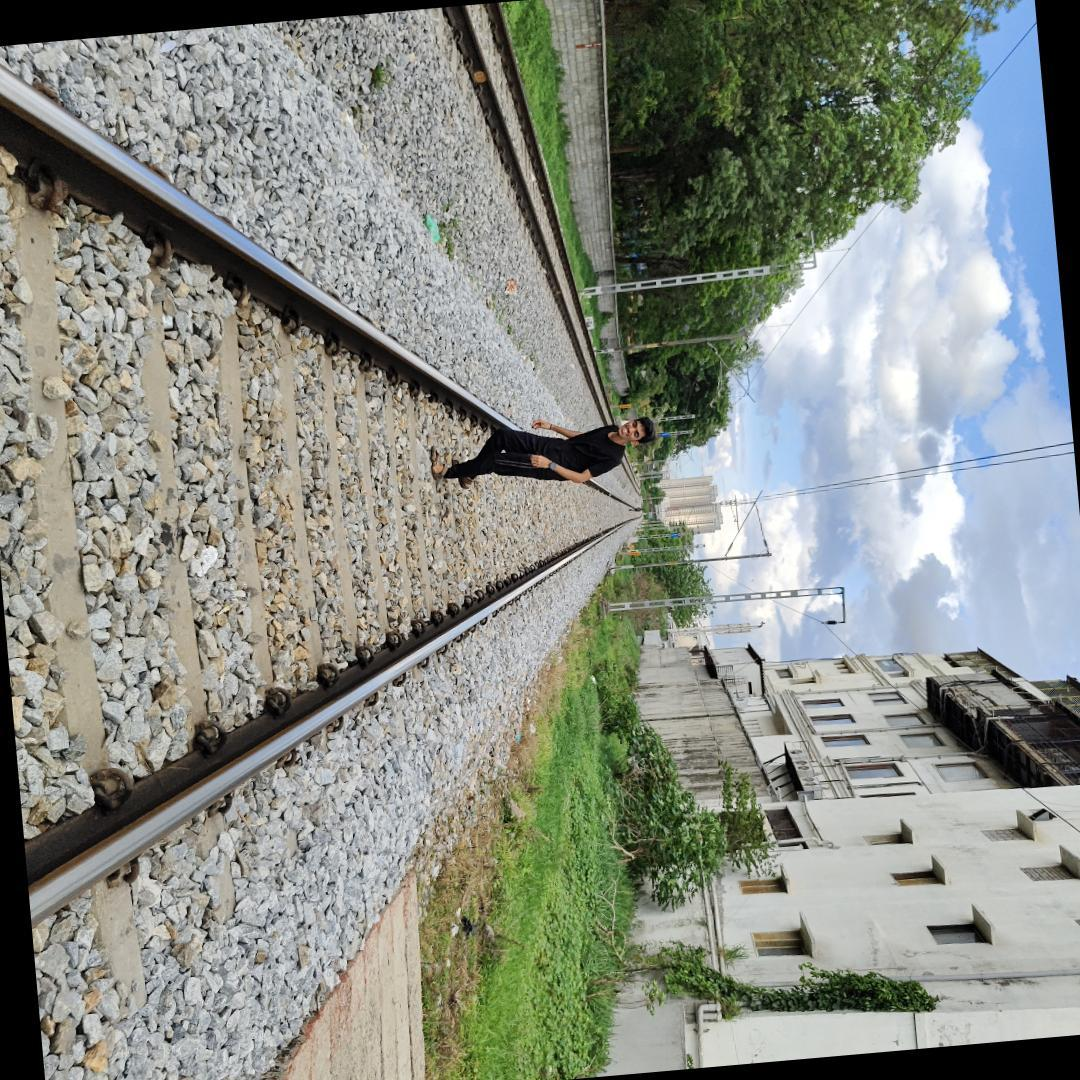standing: (422, 405, 662, 502)
